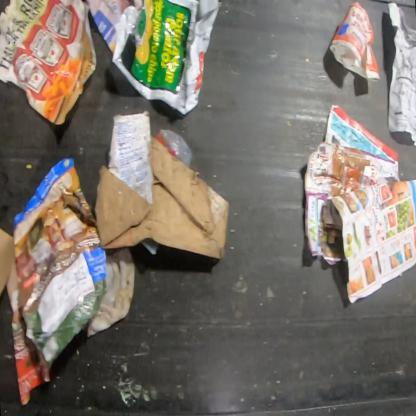cardboard: (94, 115, 229, 259), (0, 229, 15, 300)
rigid_plastic: (330, 2, 380, 84), (156, 128, 195, 168), (142, 238, 158, 255)
soft_plastic: (113, 1, 220, 117)
